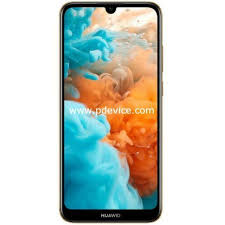huawei: (56, 1, 164, 222)
